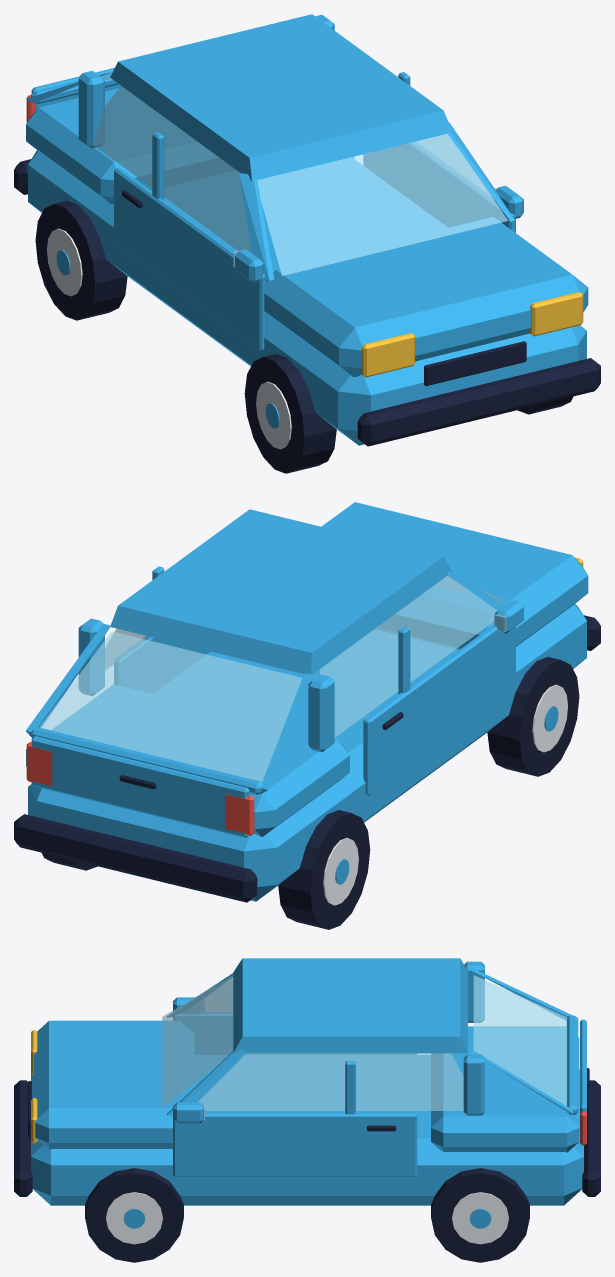
File: V01_hatchback.glb
3 renders of one model, top to bottom at view 1: azimuth 30°, elevation 25°; view 2: azimuth 150°, elevation 25°; view 3: azimuth 270°, elevation 25°, orthographic. The views are drawn at different scales.
Parts seen in each view (by area): view 1: Body, Glass, Door_R, Bumper_Front, Wheel_RR, Wheel_FR, Door_L, Grille, Headlight_1, Headlight_-1, Trunk, Mirror_R; view 2: Body, Trunk, Door_R, Glass, Bumper_Rear, Wheel_FR, Wheel_RR, Door_L, Taillight_-1, Taillight_1, Mirror_R; view 3: Body, Glass, Door_L, Trunk, Wheel_RL, Wheel_FL, Door_R, Bumper_Front, Bumper_Rear, Mirror_L.
Part boxes in pixels (<box>): Body: <box>26,14,588,445</box>; Glass: <box>92,86,507,275</box>; Door_R: <box>114,132,274,350</box>; Bumper_Front: <box>357,358,600,446</box>; Wheel_RR: <box>35,200,127,320</box>; Wheel_FR: <box>244,354,336,473</box>; Door_L: <box>363,72,515,232</box>; Grille: <box>424,341,526,386</box>; Headlight_1: <box>530,292,583,336</box>; Headlight_-1: <box>362,333,414,377</box>; Trunk: <box>26,68,121,110</box>; Mirror_R: <box>233,249,263,282</box>; Body: <box>26,502,588,901</box>; Trunk: <box>26,623,313,837</box>; Door_R: <box>363,571,515,795</box>; Glass: <box>105,575,506,737</box>; Bumper_Rear: <box>14,814,257,902</box>; Wheel_FR: <box>487,657,579,776</box>; Wheel_RR: <box>278,810,370,929</box>; Door_L: <box>114,566,210,693</box>; Taillight_-1: <box>225,794,254,835</box>; Taillight_1: <box>26,742,52,786</box>; Mirror_R: <box>494,600,523,633</box>; Body: <box>31,958,583,1205</box>; Glass: <box>162,975,463,1110</box>; Door_L: <box>167,1050,417,1176</box>; Trunk: <box>471,967,589,1145</box>; Wheel_RL: <box>431,1168,529,1262</box>; Wheel_FL: <box>85,1168,183,1262</box>; Door_R: <box>167,973,416,1054</box>; Bumper_Front: <box>14,1080,32,1196</box>; Bumper_Rear: <box>582,1080,600,1196</box>; Mirror_L: <box>173,1102,204,1123</box>.
Bounding box in the file's own units: 1.73 × 1.5 × 3.8.
